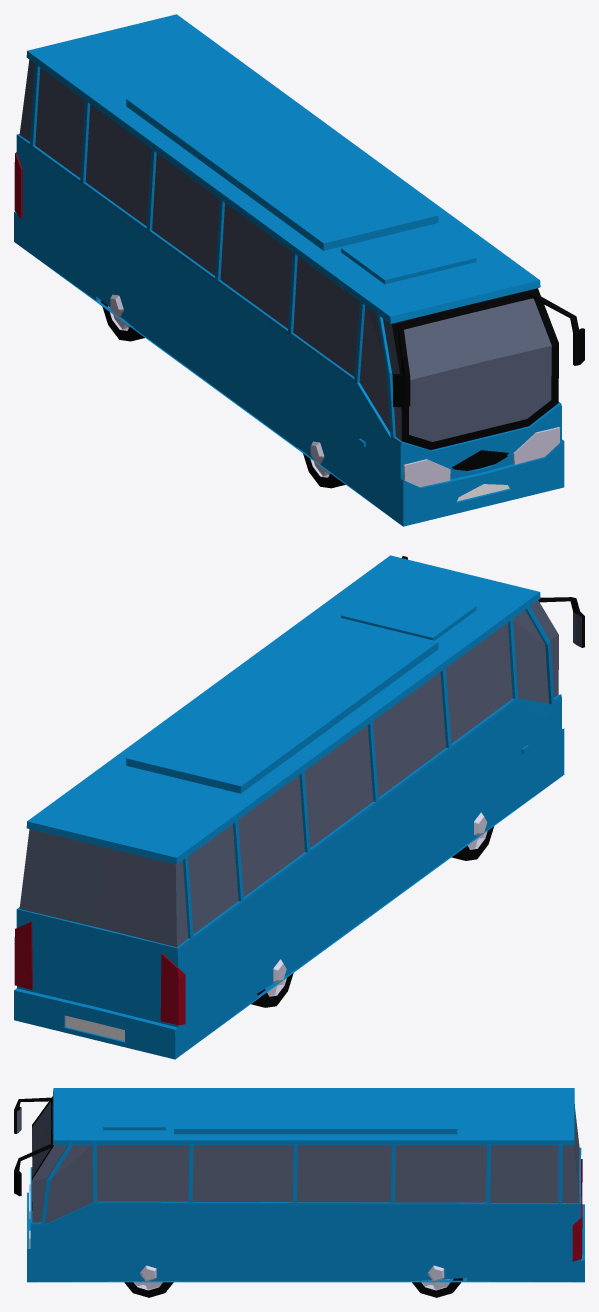
The model's file is Bus.glb.
The picture shows the model from 3 angles, top to bottom: view 1: azimuth 30°, elevation 25°; view 2: azimuth 150°, elevation 25°; view 3: azimuth 270°, elevation 25°; orthographic projection. The views are drawn at different scales.
Parts seen in each view (by area): view 1: Bus; view 2: Bus; view 3: Bus.
Part boxes in pixels (x1,y1,x2,y2): Bus: [14, 14, 584, 526]; Bus: [14, 555, 584, 1059]; Bus: [14, 1088, 584, 1297].
Bounding box in the file's own units: 381 × 427 × 1370.
